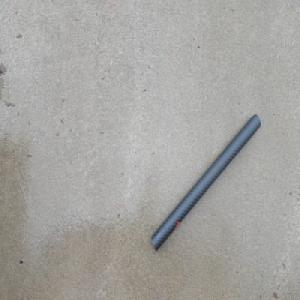LuggagePart: (151, 115, 262, 256)
